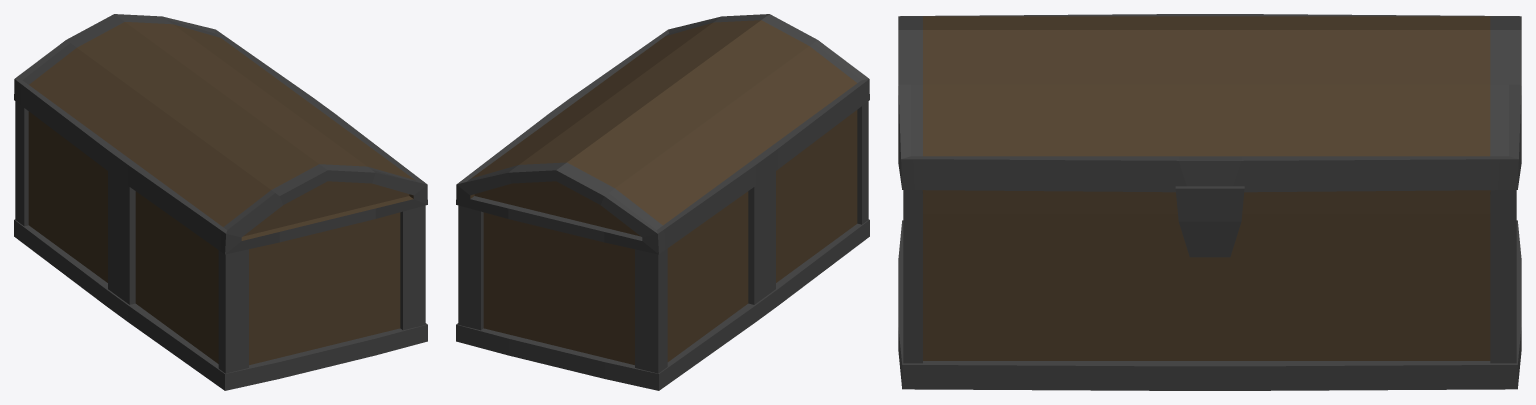
Rendered from bau.fbx.
3 views of the same model, side by side, from view 1: azimuth 30°, elevation 25°; view 2: azimuth 150°, elevation 25°; view 3: azimuth 270°, elevation 25° (orthographic). The views are drawn at different scales.
Parts seen in each view (by area): view 1: Cube; view 2: Cube; view 3: Cube.
Part boxes in pixels (left/top/right/bottom): Cube: left=14, top=14, right=427, bottom=390; Cube: left=456, top=14, right=869, bottom=390; Cube: left=898, top=14, right=1521, bottom=390.
Bounding box in the file's own units: 184 × 163 × 321.
